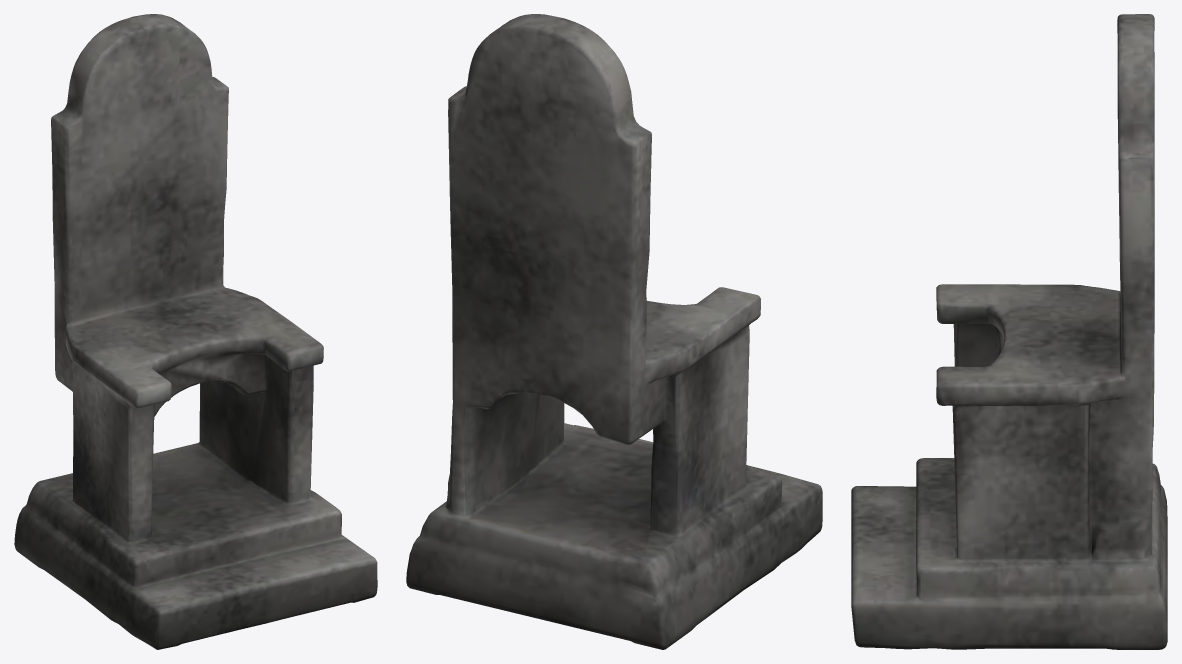
Rendered from chipped-granite-throne-v001.glb.
3 views of the same model, side by side, from view 1: azimuth 30°, elevation 25°; view 2: azimuth 150°, elevation 25°; view 3: azimuth 270°, elevation 25° (orthographic). The views are drawn at different scales.
Parts seen in each view (by area): view 1: chipped-granite-throne; view 2: chipped-granite-throne; view 3: chipped-granite-throne.
Part boxes in pixels (x1,y1,x2,y2): chipped-granite-throne: (14,14,377,649); chipped-granite-throne: (406,14,822,649); chipped-granite-throne: (851,14,1167,649).
Size of the model in its own units: 0.8234 by 1.78 by 0.9001.
1 material, 1 textured.
